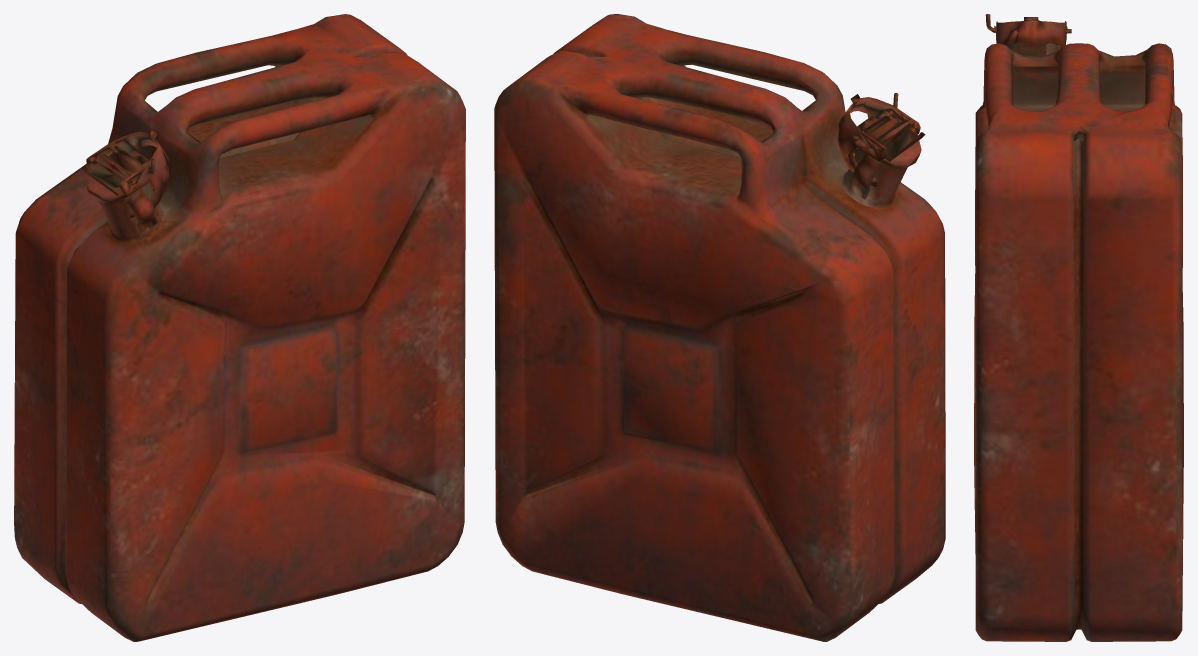
File: metal_jerrycan.glb
3 views of the same model, side by side, from view 1: azimuth 30°, elevation 25°; view 2: azimuth 150°, elevation 25°; view 3: azimuth 270°, elevation 25° (orthographic). The views are drawn at different scales.
Visible parts, largest first — view 1: metal_jerrycan; view 2: metal_jerrycan; view 3: metal_jerrycan.
Boxes of the visible parts, x1,y1,x2,y2 form: metal_jerrycan: (14,14,465,641); metal_jerrycan: (494,14,945,641); metal_jerrycan: (974,14,1183,641).
Size of the model in its own units: 0.3492 by 0.4548 by 0.1717.
Materials: 1 (1 with a texture image).
